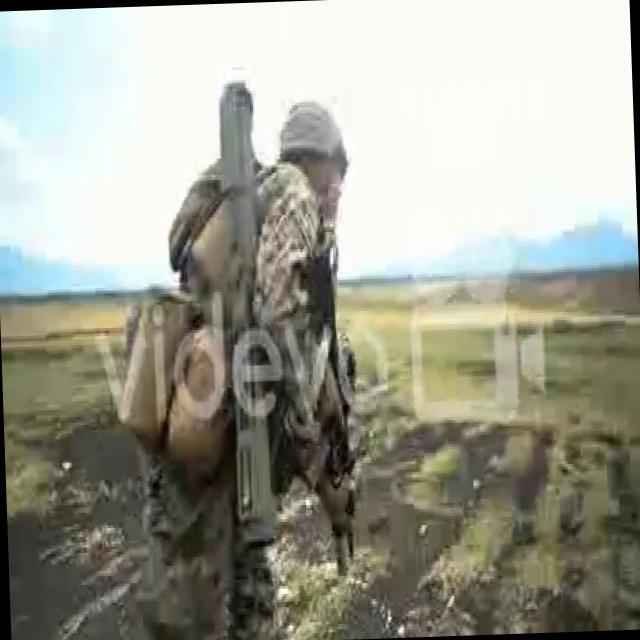rocket: (217, 81, 273, 528)
